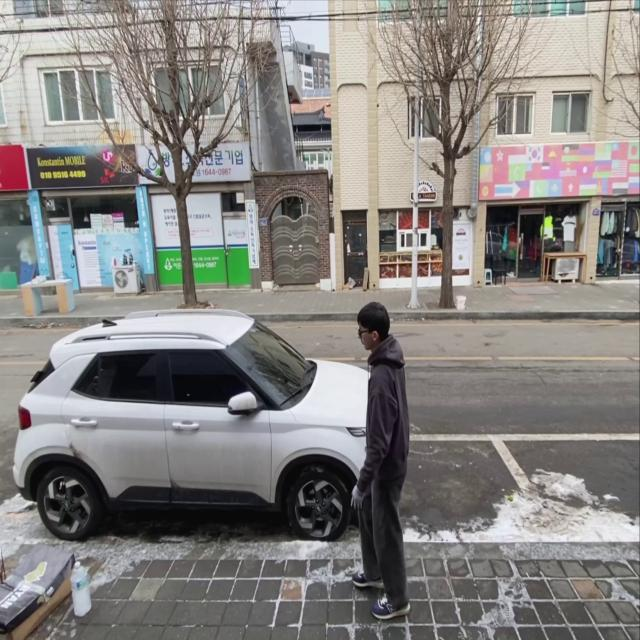gloved_hand: (344, 484, 368, 513)
